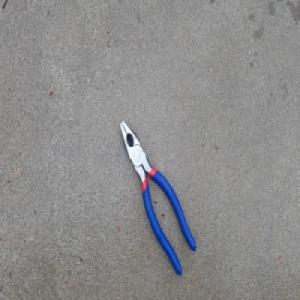Pliers: (119, 118, 196, 277)
